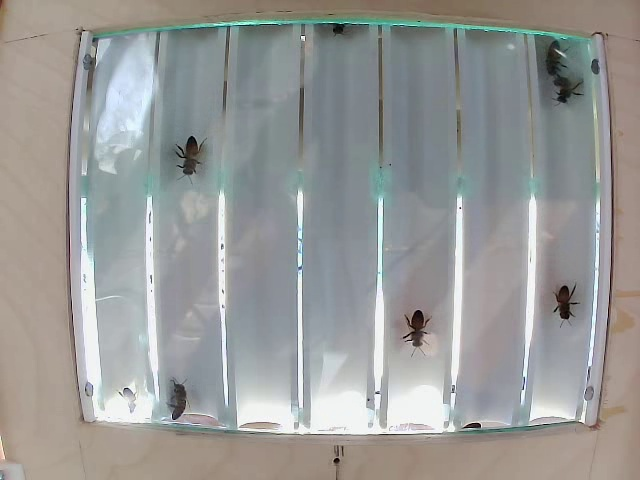bee: (179, 138, 216, 183), (394, 309, 428, 356), (535, 38, 567, 87), (167, 379, 208, 417), (547, 276, 578, 325), (551, 71, 578, 108)
